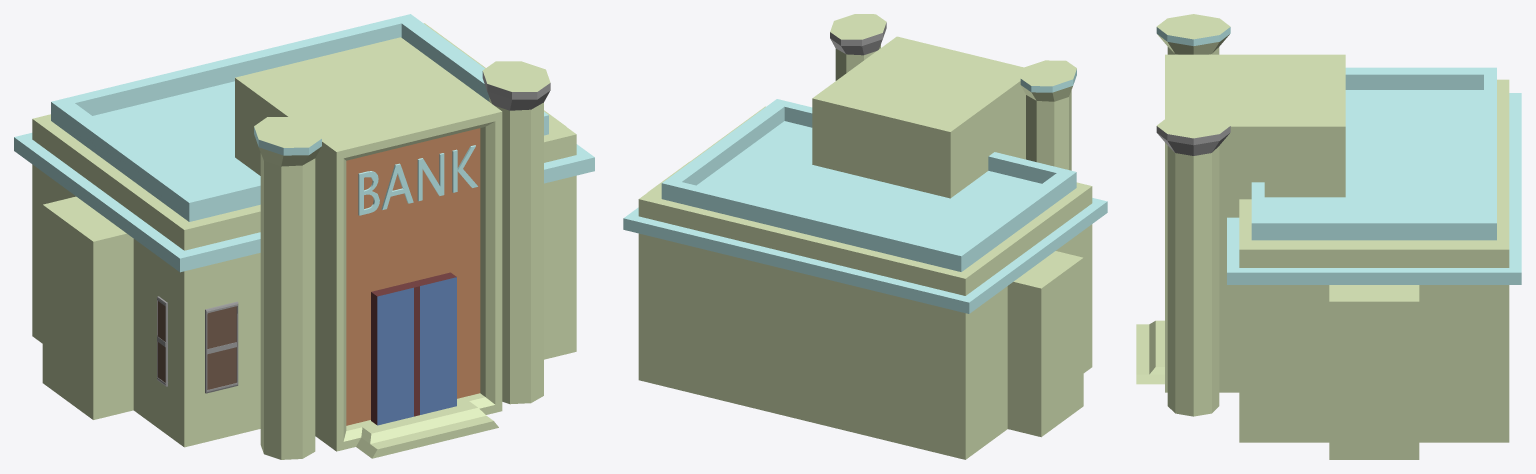
File: Bank.fbx
3 renders of one model, left to right at view 1: azimuth 30°, elevation 25°; view 2: azimuth 150°, elevation 25°; view 3: azimuth 270°, elevation 25°, orthographic. The views are drawn at different scales.
Visible parts, largest first — view 1: pCube307, pCube308, pCube310, pCylinder90, pCylinder91, pCube311, pCube309, polySurface744, typeMesh1, polySurface745; view 2: pCube308, pCube310, pCube307, pCube309, pCylinder90, pCylinder91; view 3: pCube308, pCube310, pCube307, pCylinder91, pCube309, pCylinder90.
Part boxes in pixels (x1=…): pCube307: x1=235, y1=37, x2=502, y2=458; pCube308: x1=32, y1=23, x2=576, y2=447; pCube310: x1=51, y1=14, x2=548, y2=221; pCylinder90: x1=254, y1=117, x2=321, y2=459; pCylinder91: x1=482, y1=61, x2=550, y2=404; pCube311: x1=371, y1=272, x2=456, y2=425; pCube309: x1=14, y1=133, x2=594, y2=272; polySurface744: x1=205, y1=301, x2=238, y2=393; typeMesh1: x1=358, y1=145, x2=477, y2=215; polySurface745: x1=157, y1=296, x2=167, y2=386; pCube308: x1=638, y1=106, x2=1092, y2=459; pCube310: x1=661, y1=99, x2=1076, y2=271; pCube307: x1=812, y1=36, x2=1025, y2=198; pCube309: x1=623, y1=198, x2=1107, y2=313; pCylinder90: x1=1020, y1=60, x2=1076, y2=170; pCylinder91: x1=830, y1=14, x2=886, y2=80; pCube308: x1=1239, y1=79, x2=1509, y2=459; pCube310: x1=1251, y1=67, x2=1496, y2=240; pCube307: x1=1136, y1=54, x2=1345, y2=392; pCylinder91: x1=1156, y1=113, x2=1230, y2=416; pCube309: x1=1227, y1=93, x2=1521, y2=284; pCylinder90: x1=1156, y1=14, x2=1230, y2=54.
Size of the model in its own units: 564 by 360 by 449.
